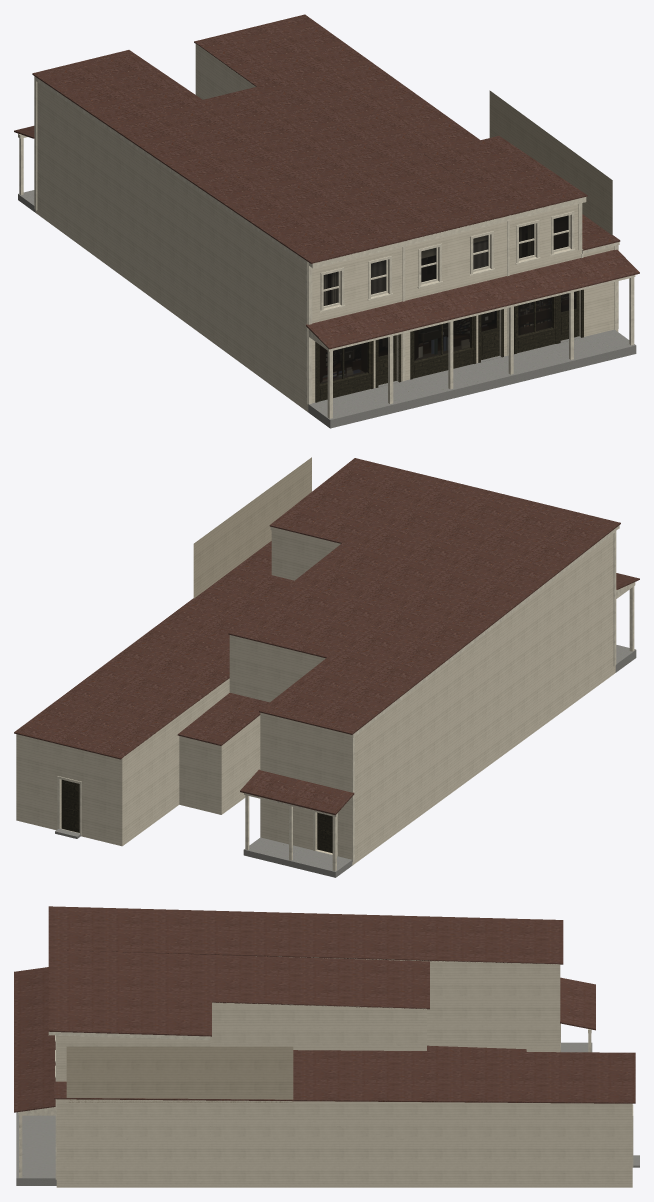
Rendered from block-32-38.glb.
The picture shows the model from 3 angles, top to bottom: view 1: azimuth 30°, elevation 25°; view 2: azimuth 150°, elevation 25°; view 3: azimuth 270°, elevation 25°; orthographic projection. The views are drawn at different scales.
Visible parts, largest first — view 1: Block3238; view 2: Block3238; view 3: Block3238.
Part boxes in pixels (x1=…): Block3238: x1=14, y1=14, x2=639, y2=428; Block3238: x1=14, y1=457, x2=639, y2=877; Block3238: x1=14, y1=906, x2=639, y2=1187.
Size of the model in its own units: 13.55 by 6.34 by 25.46.
Materials: 9 (8 with a texture image).
